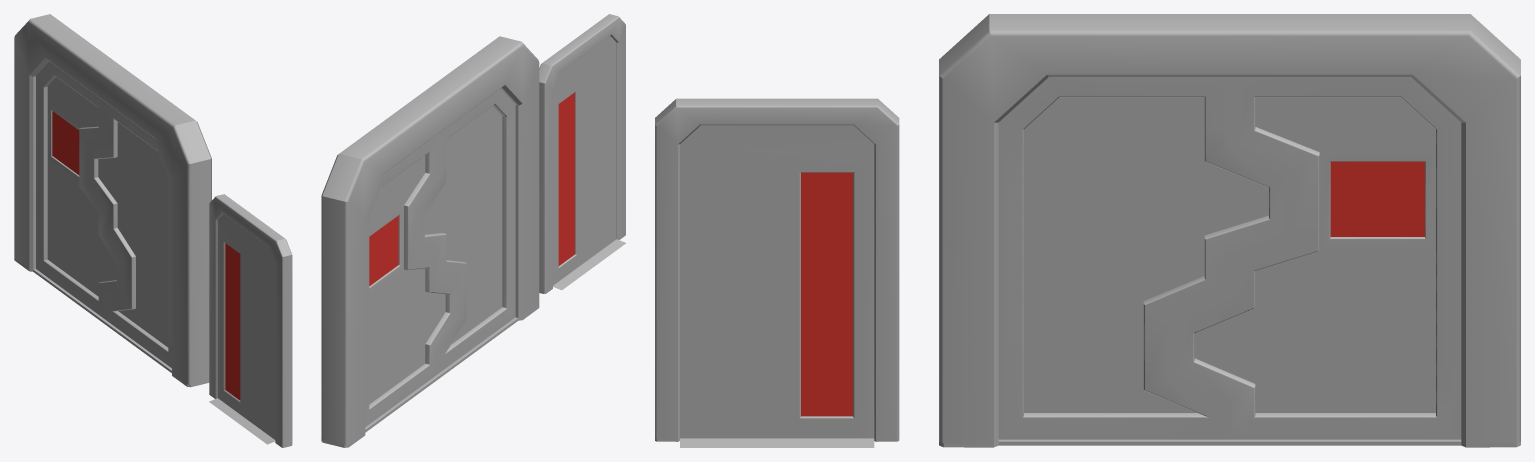
Rendered from Sci Fi Gates Glass.fbx.
3 renders of one model, left to right at view 1: azimuth 30°, elevation 25°; view 2: azimuth 150°, elevation 25°; view 3: azimuth 270°, elevation 25°, orthographic. The views are drawn at different scales.
Parts seen in each view (by area): view 1: Frame, Door_Right, Door_Left, Door, Frame.001; view 2: Frame, Door_Left, Door_Right, Door, Frame.001; view 3: Frame, Door_Left, Door_Right, Door, Frame.001.
Boxes of the visible parts, left/top/right/bottom form: Frame: left=14, top=14, right=211, bottom=387; Door_Right: left=36, top=61, right=123, bottom=319; Door_Left: left=86, top=102, right=171, bottom=367; Door: left=217, top=214, right=275, bottom=439; Frame.001: left=209, top=194, right=292, bottom=447; Frame: left=321, top=36, right=539, bottom=447; Door_Left: left=417, top=88, right=515, bottom=373; Door_Right: left=365, top=134, right=458, bottom=426; Door: left=553, top=36, right=616, bottom=285; Frame.001: left=539, top=14, right=626, bottom=293; Frame: left=939, top=14, right=1520, bottom=447; Door_Left: left=998, top=77, right=1294, bottom=439; Door_Right: left=1169, top=77, right=1461, bottom=439; Door: left=680, top=125, right=874, bottom=438; Frame.001: left=655, top=98, right=899, bottom=447.
Size of the model in its own units: 54.61 by 28.92 by 3.15.
